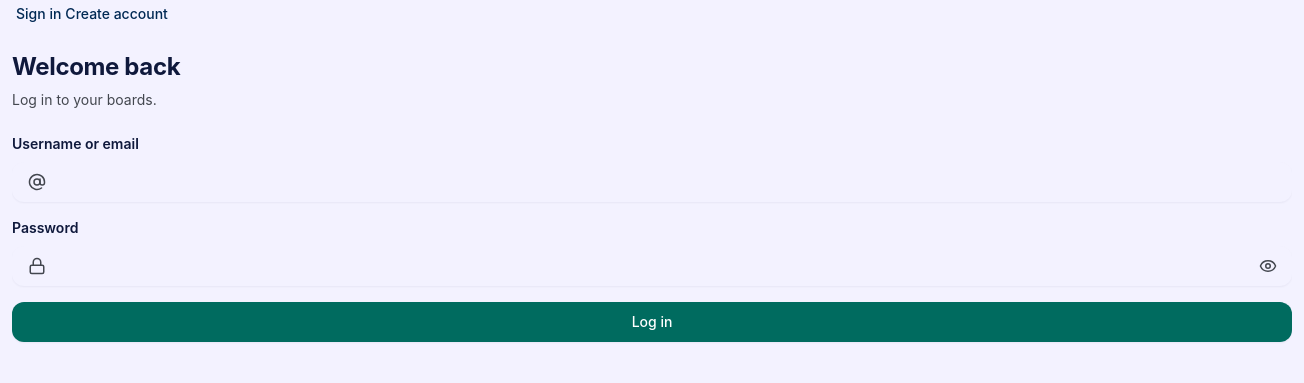
Test: AuthForm › sends no request for an identifier that is neither a username nor an email
Type "not valid" into the field labelled "Username or email".
click(652, 182); type("not valid")  # box [12,162,1292,202]
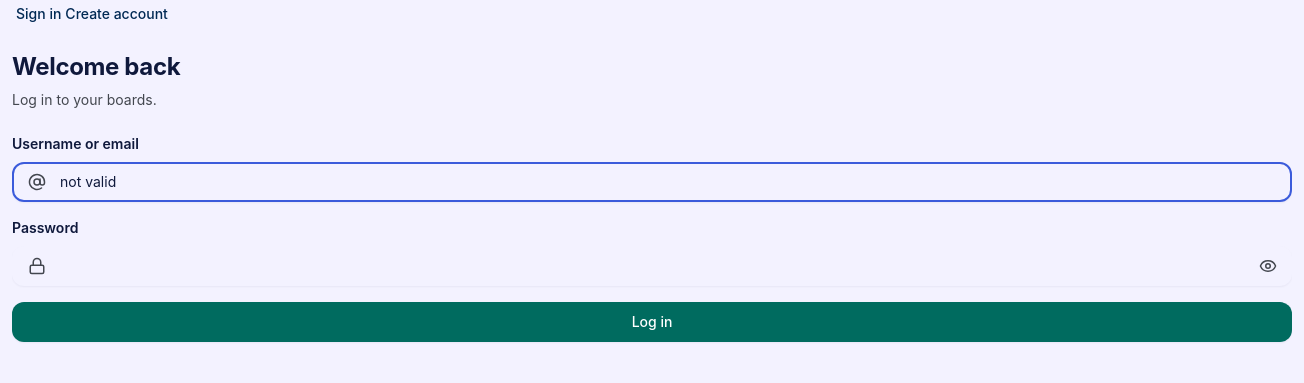
Type "secret-pass" into the password field labelled "Password".
click(652, 266); type("secret-pass")  # box [12,246,1292,286]
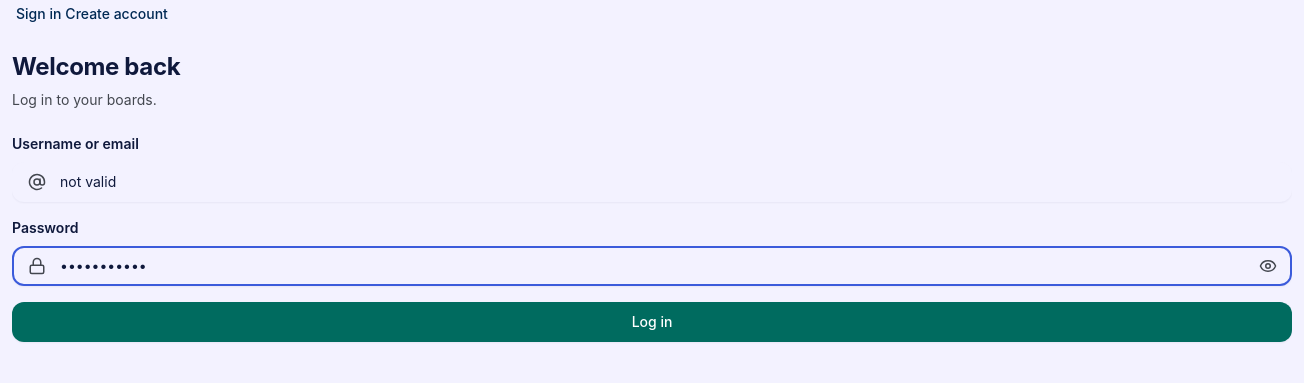
Click the button "Log in".
click(652, 322)  # box [12,302,1292,342]
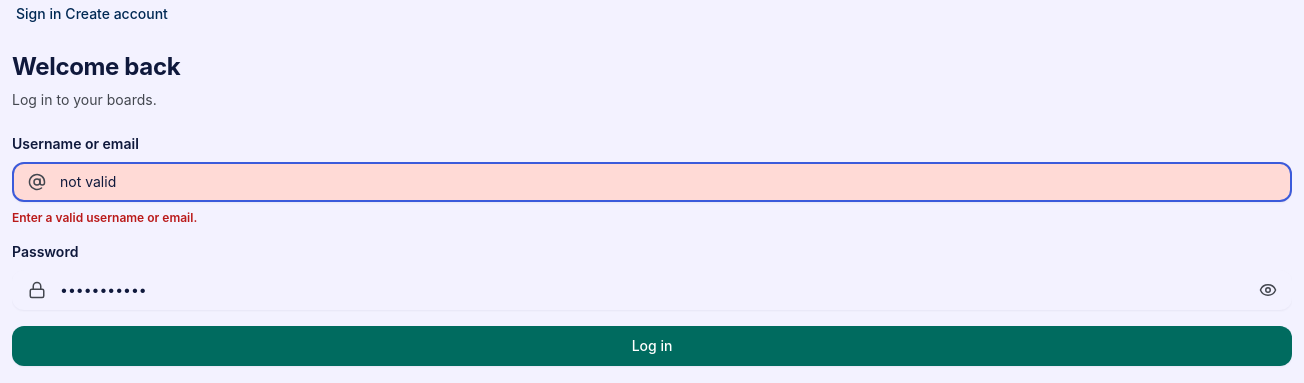
expect the text "Enter a valid username or email." is shown: met, box [12,210,197,225]
Replace the text in the field labelled "Username or email" with "a@b" at (652, 182), box [12,162,1292,202]
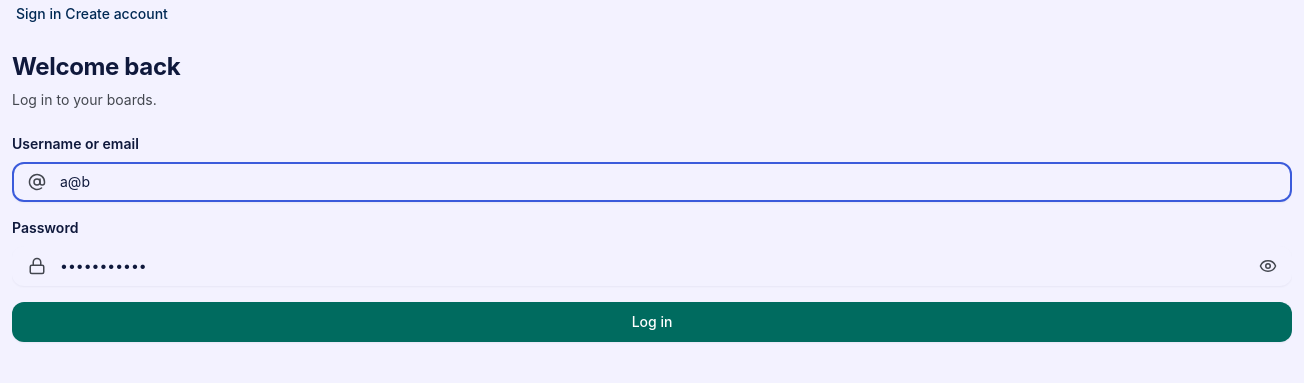
Click the button "Log in".
click(652, 322)  # box [12,302,1292,342]
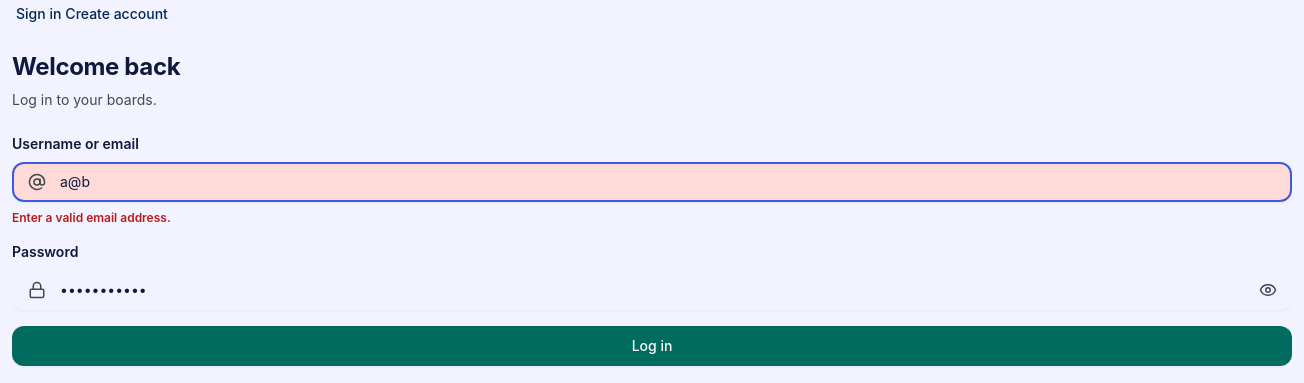
expect the text "Enter a valid email address." is shown: met, box [12,210,171,225]
